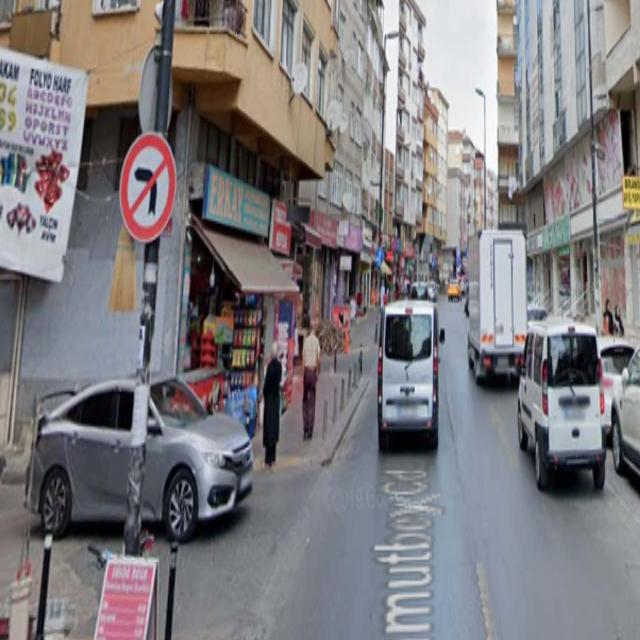soladonulmez: (120, 136, 173, 241)
